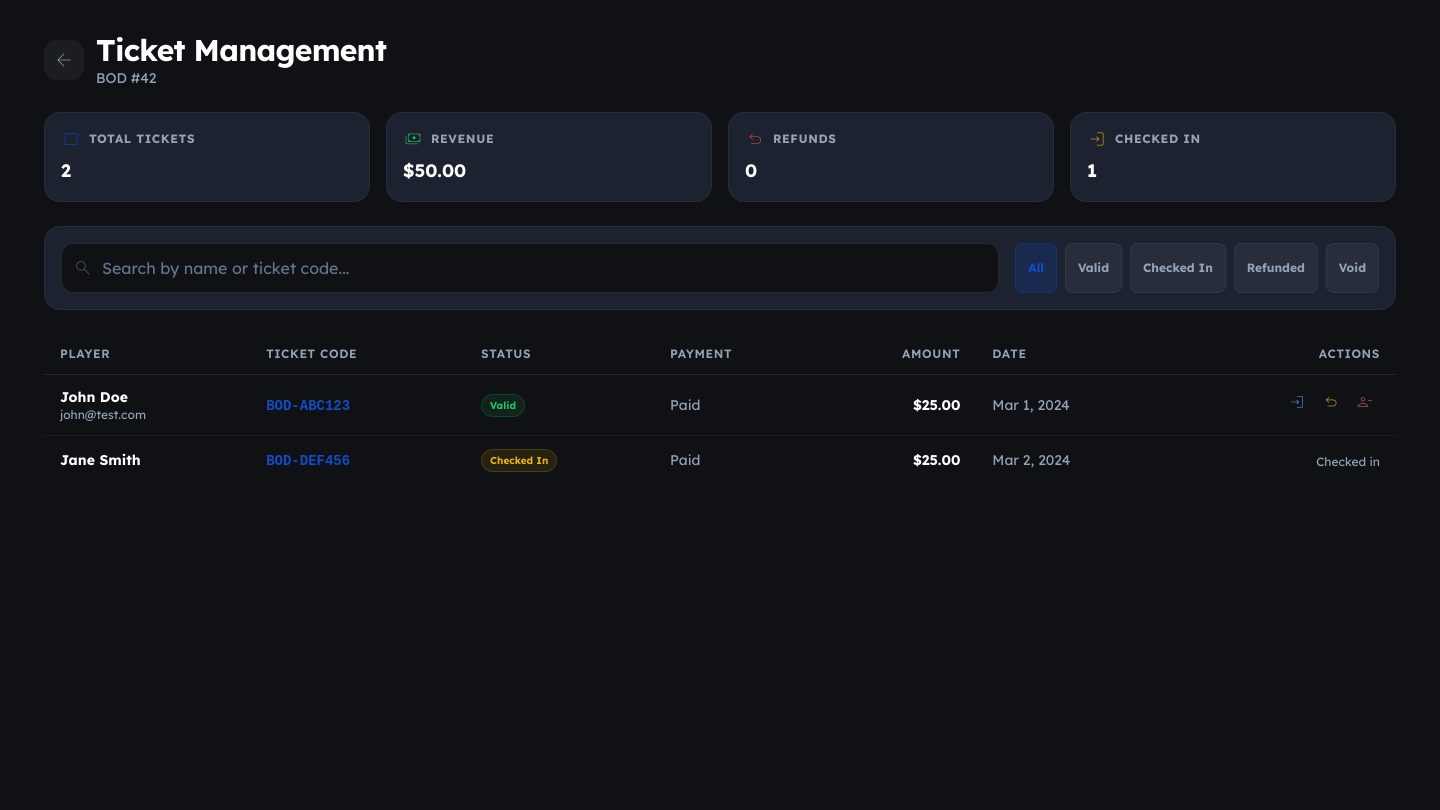
TournamentTicketsPage › shows confirmation modal on remove click
Step 1. Click the button titled "Remove" → (1365, 405), box [1350,387,1380,423]
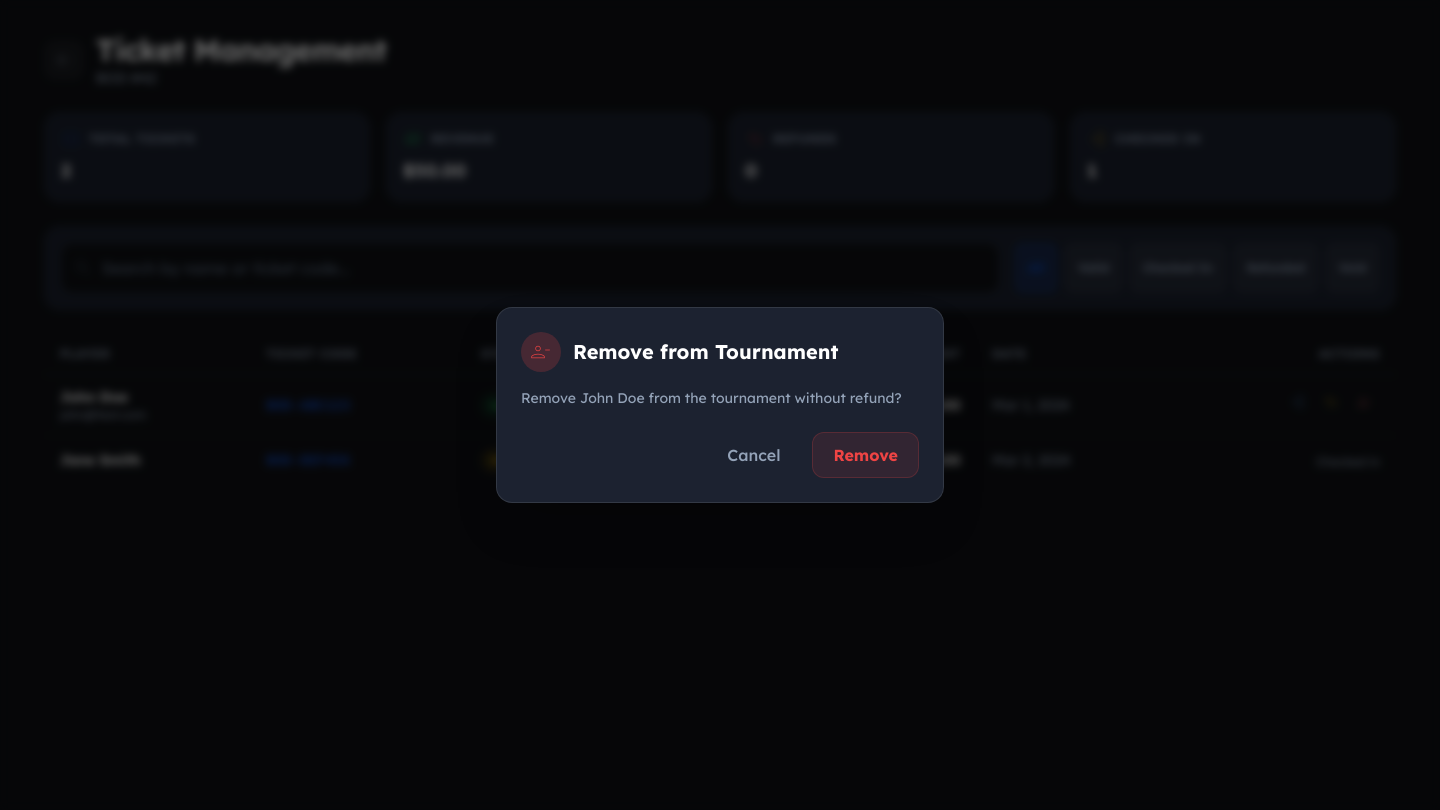
Result: the heading "Remove from Tournament" is shown at [573,338,838,366]
